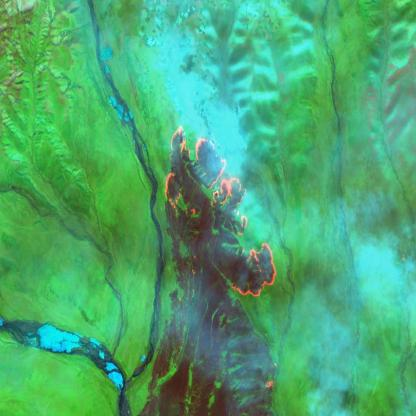fire: (162, 123, 278, 301), (262, 376, 276, 393)
